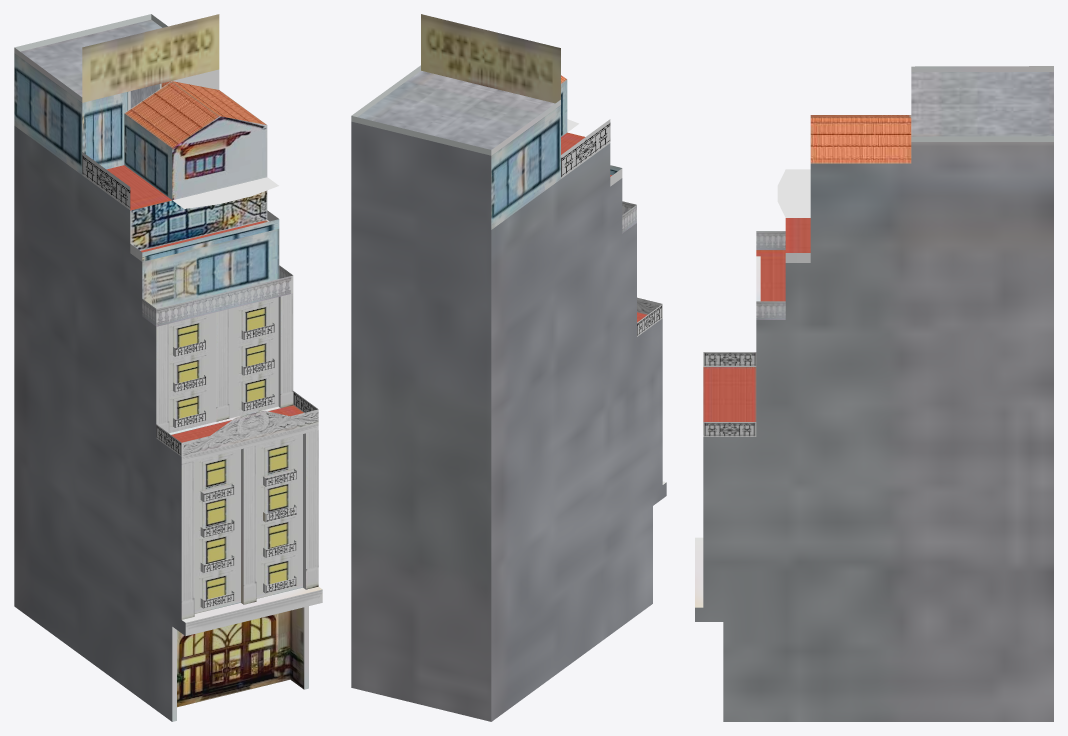
The picture shows the model from 3 angles, left to right: view 1: azimuth 30°, elevation 25°; view 2: azimuth 150°, elevation 25°; view 3: azimuth 270°, elevation 25°; orthographic projection. The views are drawn at different scales.
Parts seen in each view (by area): view 1: Dal_Vostro_Hotel___Spa_; view 2: Dal_Vostro_Hotel___Spa_; view 3: Dal_Vostro_Hotel___Spa_.
Part boxes in pixels (left/top/right/bottom): Dal_Vostro_Hotel___Spa_: left=14, top=14, right=322, bottom=721; Dal_Vostro_Hotel___Spa_: left=351, top=14, right=666, bottom=721; Dal_Vostro_Hotel___Spa_: left=695, top=66, right=1053, bottom=721.
Bounding box in the file's own units: 7.5 × 31.85 × 16.24.
Materials: 1 (1 with a texture image).
